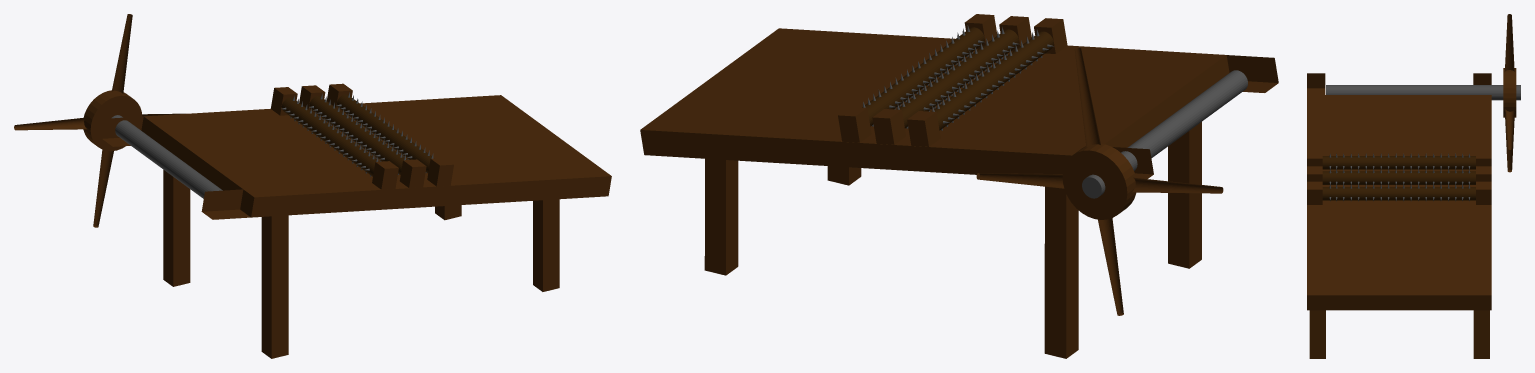
Rendered from chevalet.fbx.
The picture shows the model from 3 angles, left to right: view 1: azimuth 30°, elevation 25°; view 2: azimuth 150°, elevation 25°; view 3: azimuth 270°, elevation 25°; orthographic projection. The views are drawn at different scales.
Parts seen in each view (by area): view 1: Table, Pieds, rouleaux, Barre, pics; view 2: Table, Pieds, rouleaux, Barre, pics; view 3: Table, rouleaux, Barre, Pieds, pics.
Part boxes in pixels (box(x1,y1,x2,y2)): Table: box(14, 14, 611, 227); Pieds: box(163, 170, 559, 358); rouleaux: box(281, 94, 434, 176); Barre: box(111, 115, 222, 198); pics: box(281, 92, 433, 176); Table: box(640, 14, 1278, 315); Pieds: box(704, 122, 1201, 358); rouleaux: box(862, 27, 1053, 130); Barre: box(1082, 70, 1247, 198); pics: box(863, 25, 1053, 130); Table: box(1307, 14, 1516, 310); rouleaux: box(1322, 156, 1475, 200); Barre: box(1326, 85, 1520, 100); Pieds: box(1309, 310, 1489, 358); pics: box(1329, 153, 1470, 201).
Bounding box in the file's own units: 2757 × 1450 × 1288.
